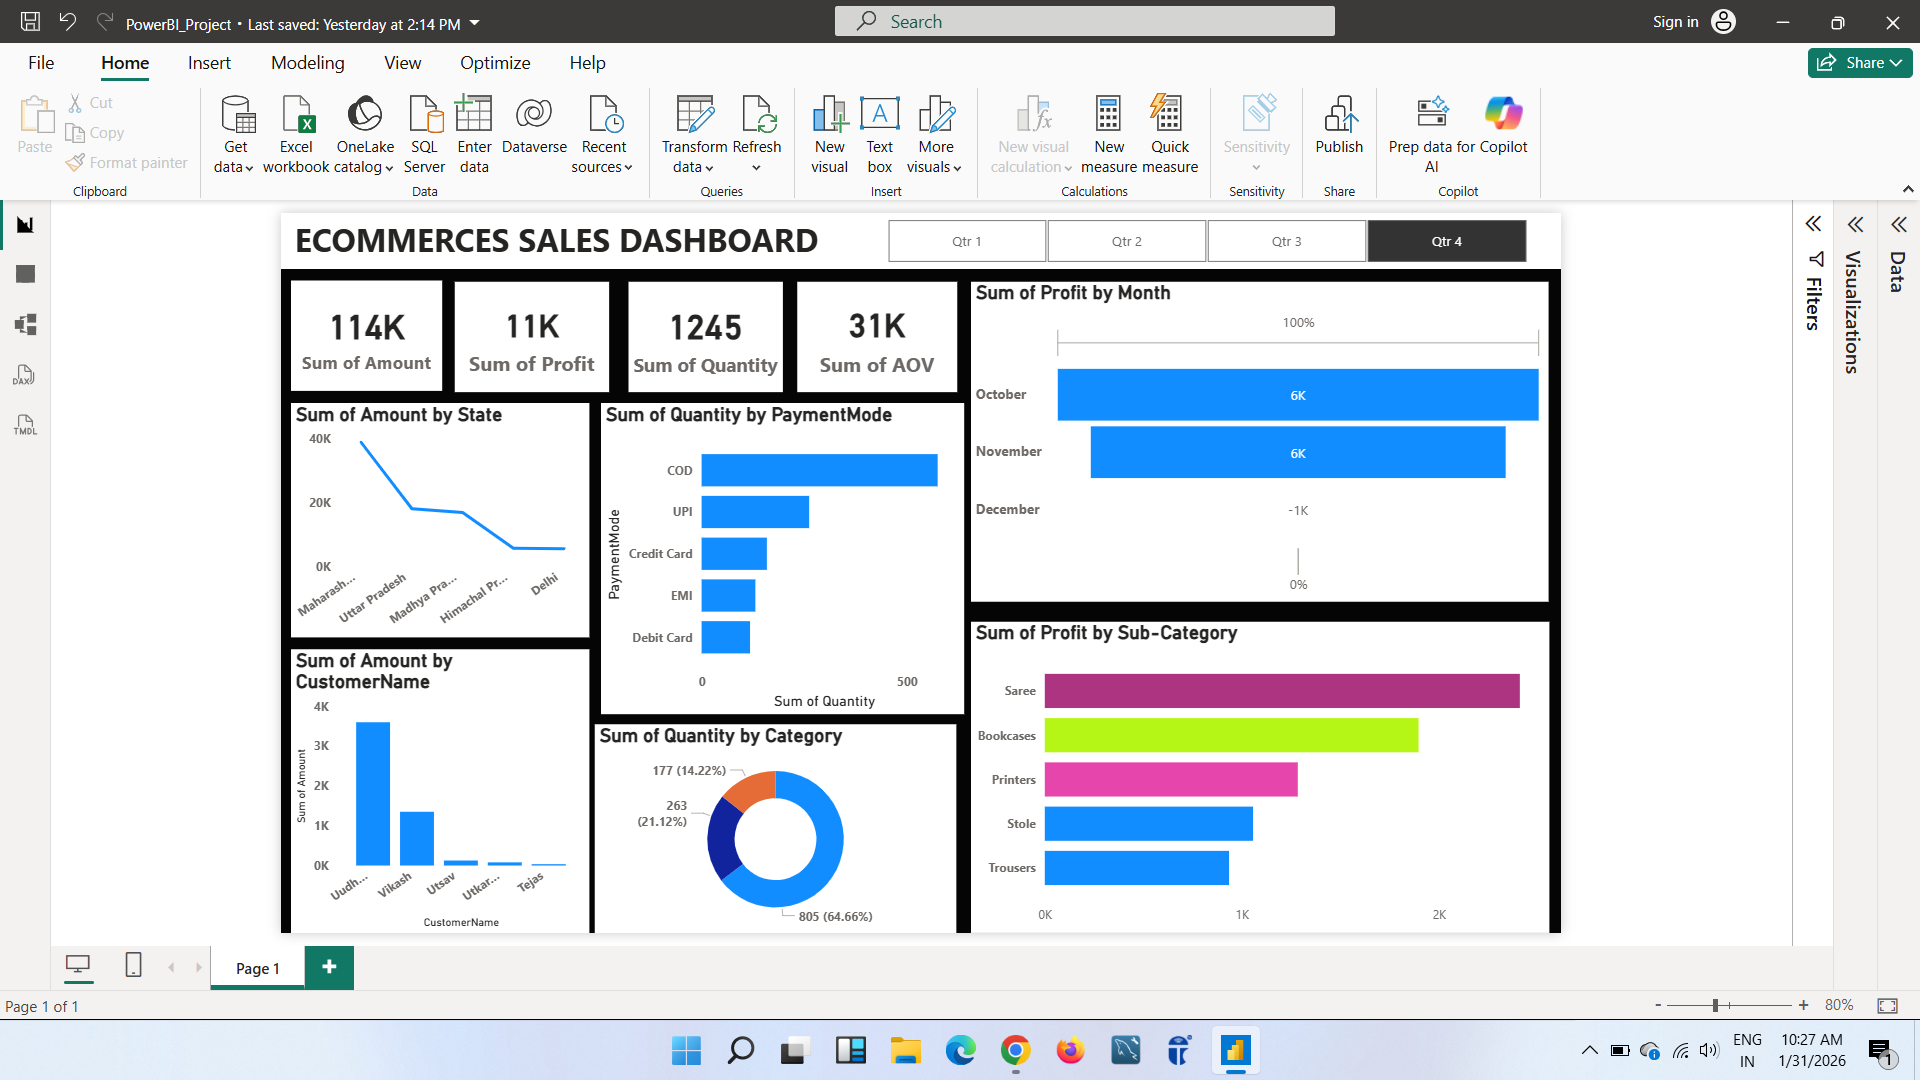

What the dashboard file says about the page in this screenshot:
{"tool":"powerbi","page":{"name":"Page 1","canvas":[1280,720],"ordinal":0},"visuals":[{"type":"textbox","box":[0,0,1280,56.2],"z":0},{"type":"funnel","fields":{"Category":["Orders.Order Date.Variation.Date Hierarchy.Month"],"Y":["Details.Profit"]},"box":[690.1,68.8,577.9,319.7],"z":1000},{"type":"barChart","fields":{"Category":["Details.Sub-Category"],"Y":["Details.Profit"]},"box":[690,408.6,578.6,311.4],"z":2000},{"type":"donutChart","fields":{"Category":["Details.Category"],"Y":["Details.Quantity"]},"box":[313.7,511.5,361.9,208.7],"z":3000},{"type":"barChart","fields":{"Category":["Details.PaymentMode"],"Y":["Details.Quantity"]},"box":[319.7,189.4,363.1,311.3],"z":4000},{"type":"card","fields":{"Values":["Details.Amount"]},"box":[10,67.1,151.4,110],"z":5000},{"type":"card","fields":{"Values":["Details.Profit"]},"box":[174.3,68.6,154.3,110],"z":6000},{"type":"card","fields":{"Values":["Details.Quantity"]},"box":[347.1,68.6,154.3,110],"z":7000},{"type":"card","fields":{"Values":["Details.Average Value"]},"box":[515.7,68.6,160,110],"z":8000},{"type":"lineChart","fields":{"Category":["Orders.State"],"Y":["Details.Amount"]},"box":[10,190,298.6,234.3],"z":9000},{"type":"columnChart","fields":{"Y":["Details.Amount"],"Category":["Orders.CustomerName"]},"box":[10,435.7,298.6,284.3],"z":10000},{"type":"slicer","fields":{"Values":["Orders.Order Date.Variation.Date Hierarchy.Quarter"]},"box":[581.4,0,432.9,55.7],"z":11000},{"type":"slicer","fields":{"Values":["Orders.State"]},"box":[1014.6,8.4,253.4,37.4],"z":12000}]}

Visuals, with their boxes on the page's 1280x720 design canvas (x1, y1, x2, y2). These are canvas units, not pixel positions in the 1920x1080 screenshot, which may show the page scaled, cropped or inside an application window:
textbox: bbox=[0, 0, 1280, 56]
funnel - Orders.Order Date.Variation.Date Hierarchy.Month x Details.Profit: bbox=[690, 69, 1268, 388]
barChart - Details.Sub-Category x Details.Profit: bbox=[690, 409, 1269, 720]
donutChart - Details.Category x Details.Quantity: bbox=[314, 512, 676, 720]
barChart - Details.PaymentMode x Details.Quantity: bbox=[320, 189, 683, 501]
card - Details.Amount: bbox=[10, 67, 161, 177]
card - Details.Profit: bbox=[174, 69, 329, 179]
card - Details.Quantity: bbox=[347, 69, 501, 179]
card - Details.Average Value: bbox=[516, 69, 676, 179]
lineChart - Orders.State x Details.Amount: bbox=[10, 190, 309, 424]
columnChart - Details.Amount x Orders.CustomerName: bbox=[10, 436, 309, 720]
slicer - Orders.Order Date.Variation.Date Hierarchy.Quarter: bbox=[581, 0, 1014, 56]
slicer - Orders.State: bbox=[1015, 8, 1268, 46]
